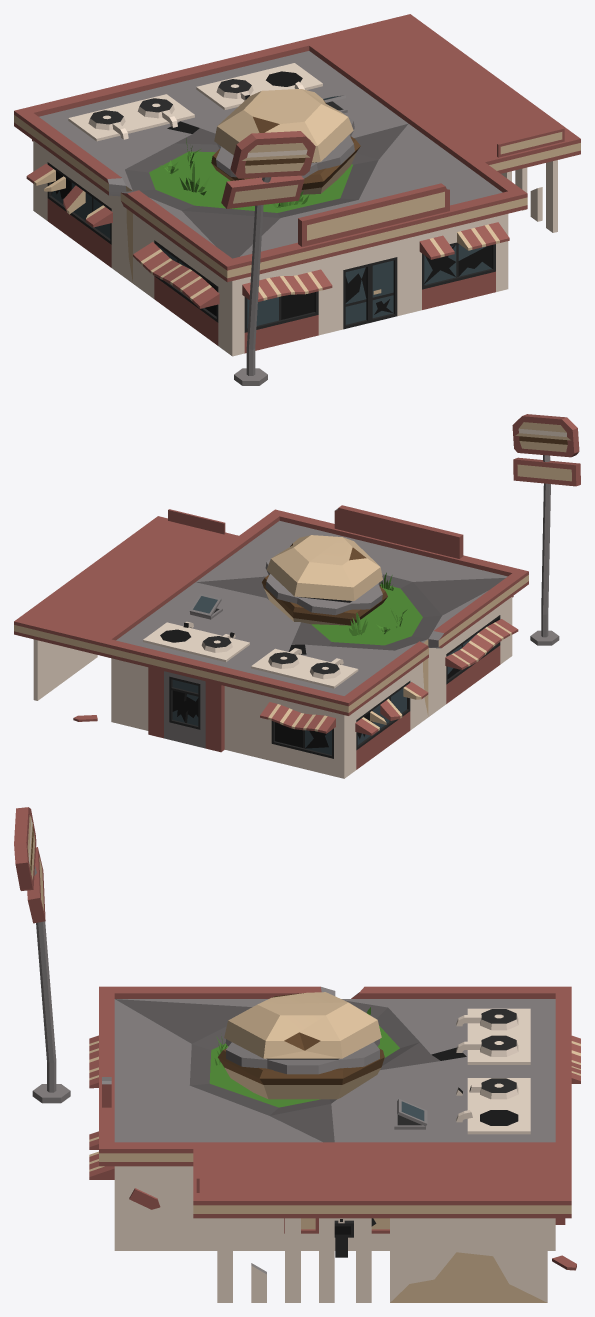
The model's file is apocalypse_building-burger-joint-apocalypse.fbx.
The picture shows the model from 3 angles, top to bottom: view 1: azimuth 30°, elevation 25°; view 2: azimuth 150°, elevation 25°; view 3: azimuth 270°, elevation 25°; orthographic projection. The views are drawn at different scales.
Parts seen in each view (by area): view 1: apocalypse_building_burger_joint_apocalypse; view 2: apocalypse_building_burger_joint_apocalypse; view 3: apocalypse_building_burger_joint_apocalypse.
Boxes of the visible parts, x1=… form: apocalypse_building_burger_joint_apocalypse: x1=14, y1=14, x2=580, y2=385; apocalypse_building_burger_joint_apocalypse: x1=14, y1=414, x2=580, y2=778; apocalypse_building_burger_joint_apocalypse: x1=14, y1=807, x2=580, y2=1302.
Bounding box in the file's own units: 193 × 111 × 200.
